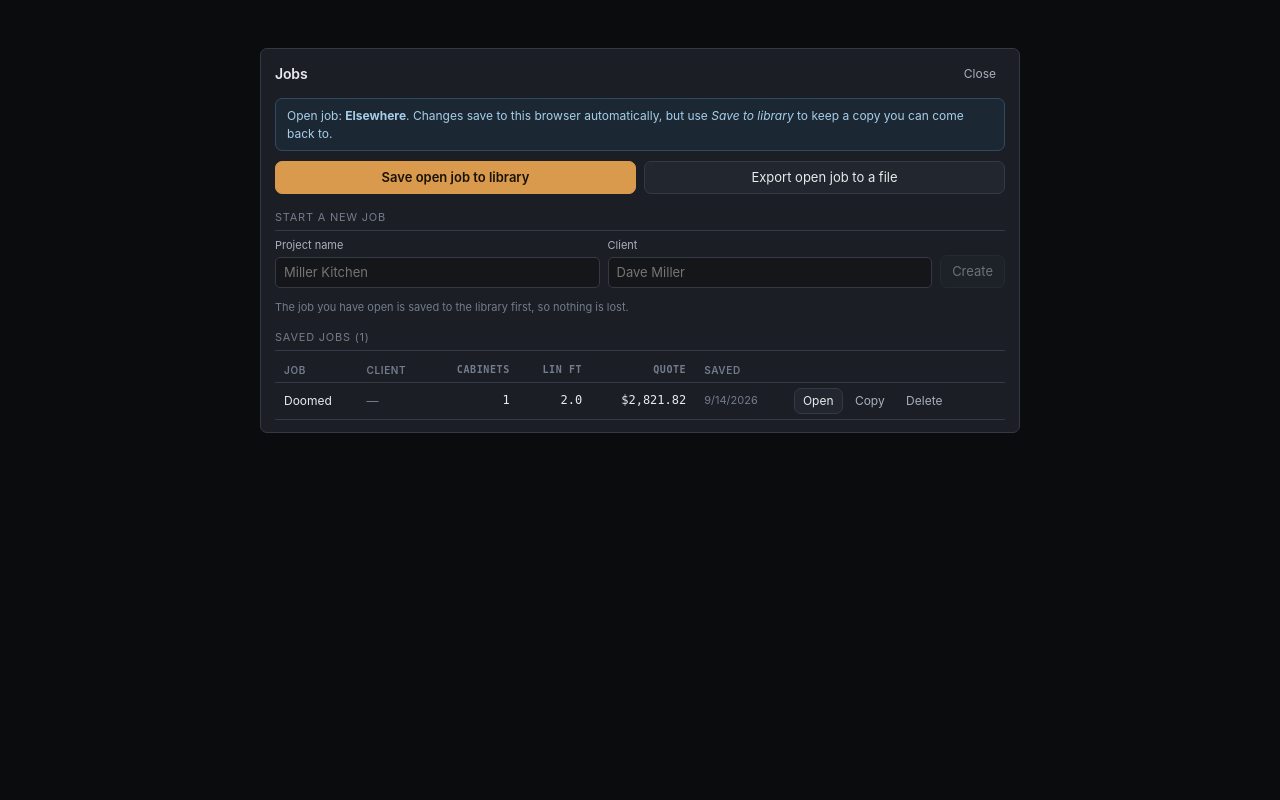
Test: JobsPanel when storage refuses the write › reports a refused delete
This screenshot has width=1280, height=800.
Click the button "Delete" at (924, 401), box top-left (897, 388), bottom-right (952, 414)
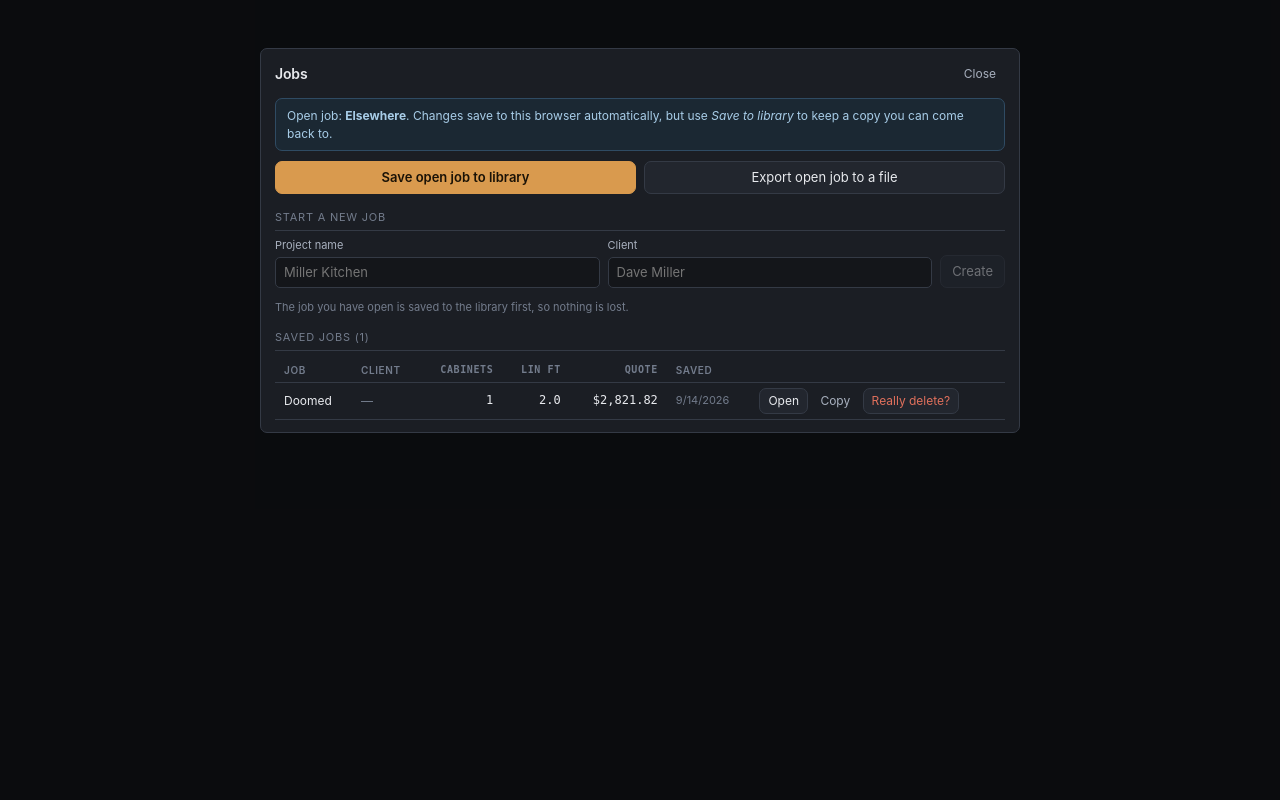
Click the button "Really delete?" at (911, 401), box top-left (863, 388), bottom-right (959, 414)
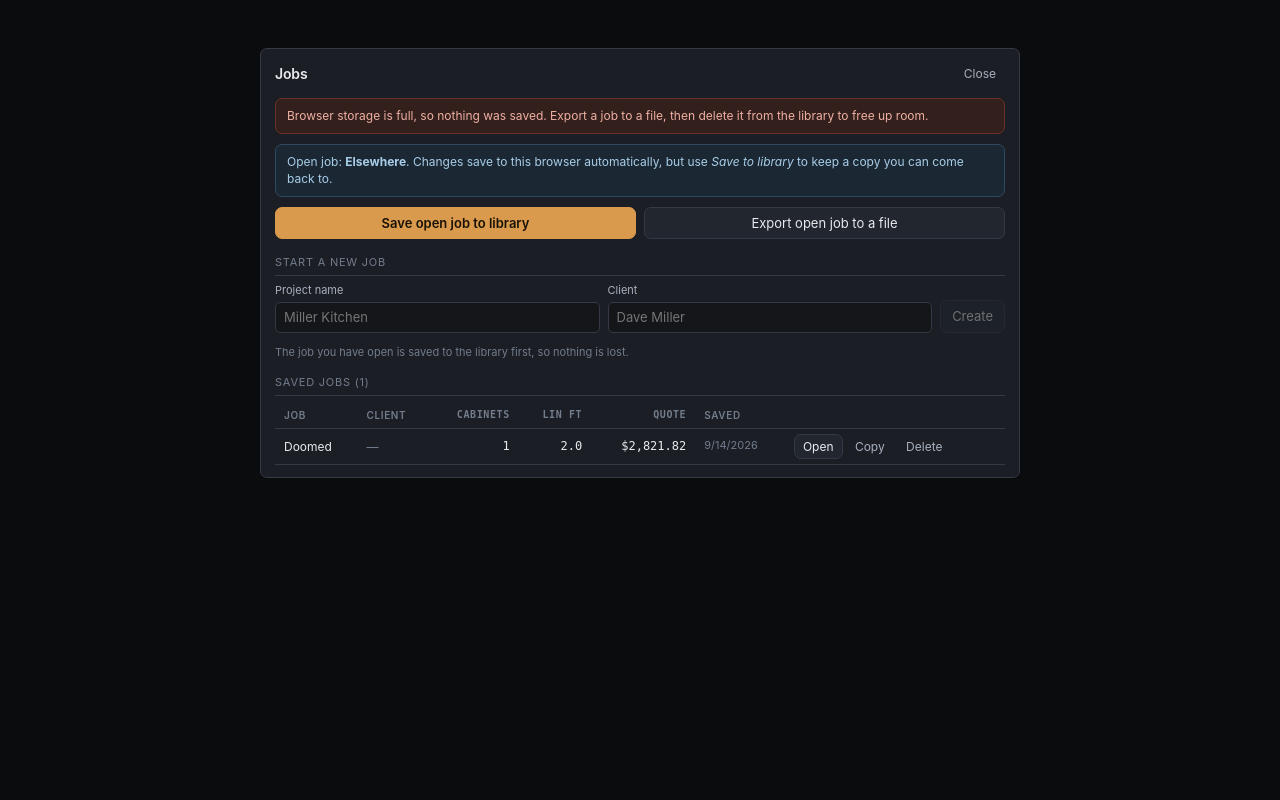
Expected: the text with class "bad" is shown, top-left (275, 98), bottom-right (1005, 134)
